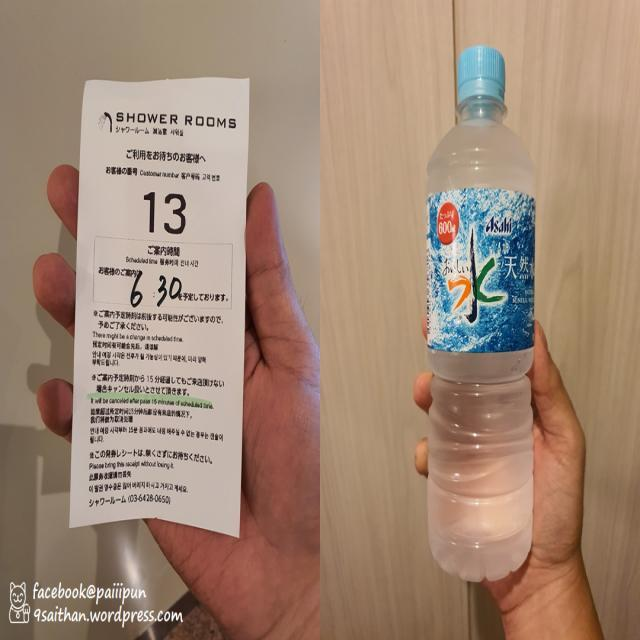plastic_bottle: (427, 45, 538, 583)
